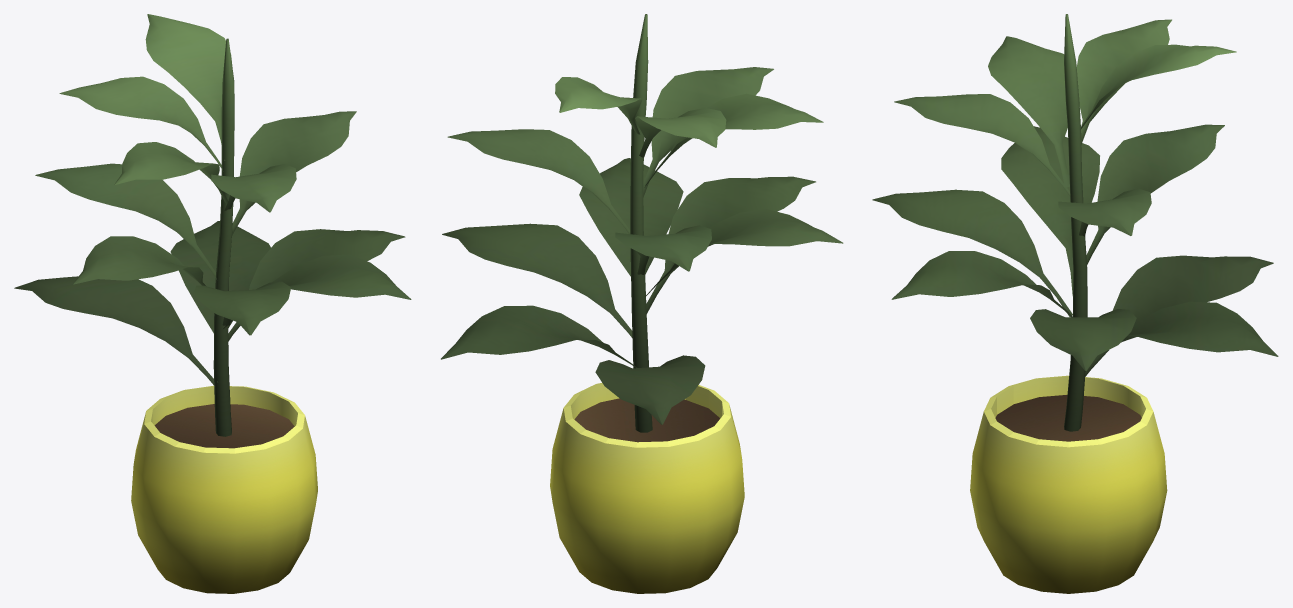
File: plant02.fbx
The picture shows the model from 3 angles, left to right: view 1: azimuth 30°, elevation 25°; view 2: azimuth 150°, elevation 25°; view 3: azimuth 270°, elevation 25°; orthographic projection. The views are drawn at different scales.
Visible parts, largest first — view 1: plant02; view 2: plant02; view 3: plant02.
Boxes of the visible parts, left/top/right/bottom form: plant02: left=14, top=14, right=411, bottom=593; plant02: left=441, top=14, right=843, bottom=593; plant02: left=872, top=14, right=1278, bottom=593.
Size of the model in its own units: 2.7 by 3.78 by 2.53.
